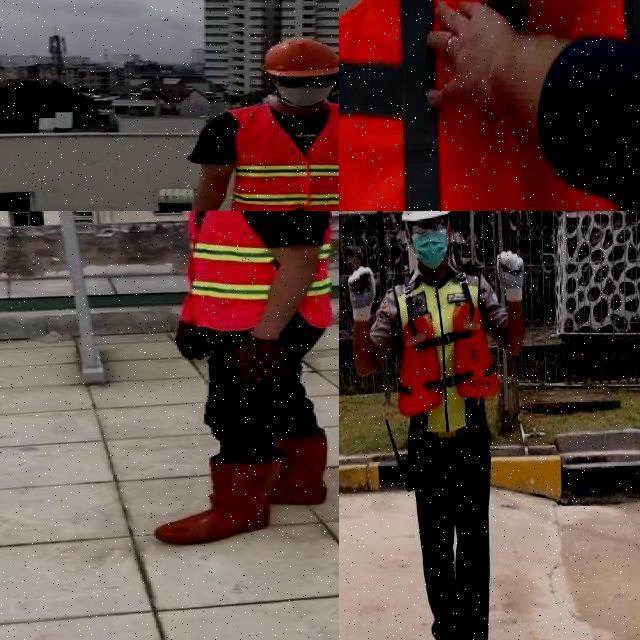boots: (152, 458, 272, 545), (268, 433, 325, 506)
helmet: (257, 37, 339, 77), (398, 211, 456, 229)
vest: (339, 0, 640, 211), (389, 268, 502, 439), (181, 211, 339, 328), (229, 106, 339, 211)
